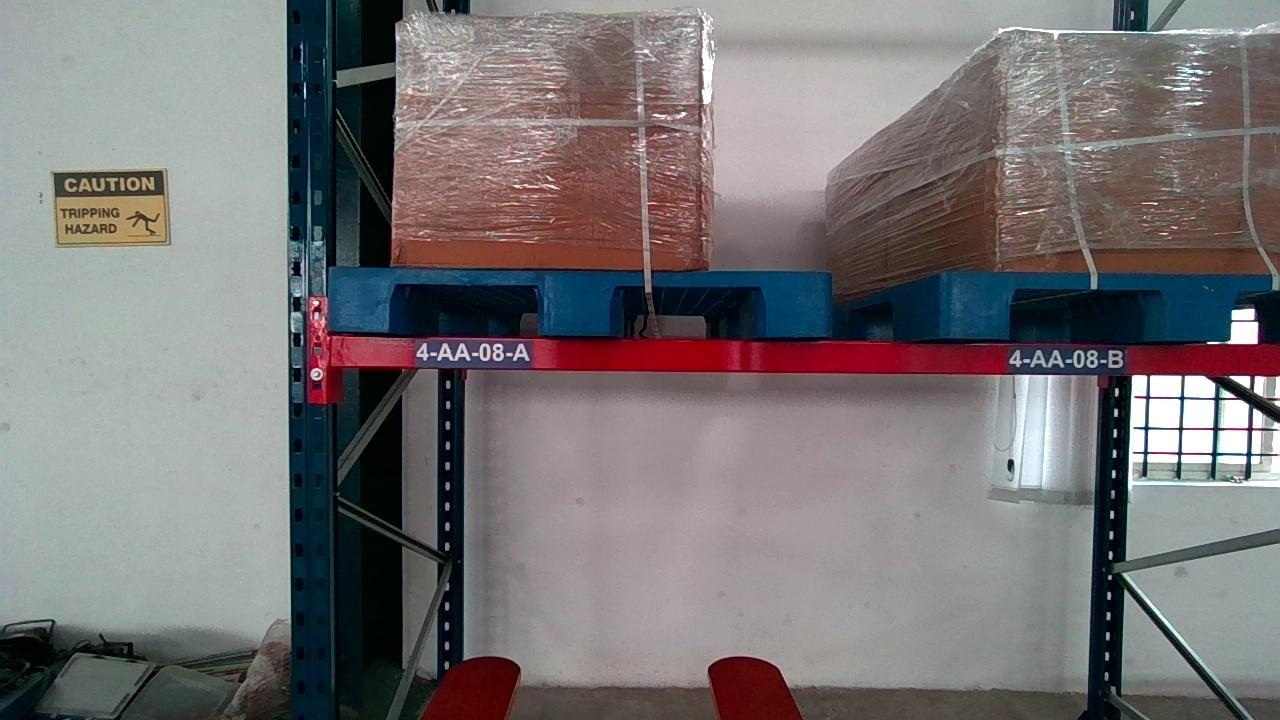h_rack: (315, 337, 1280, 374)
small_pallet: (335, 270, 823, 330), (937, 270, 1280, 335)
